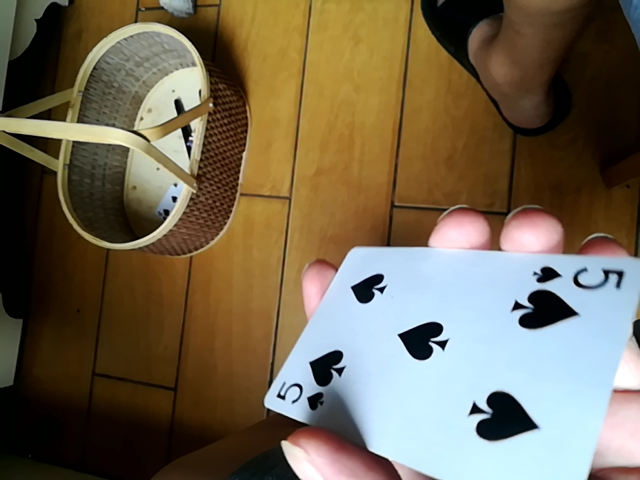ht 5: (260, 240, 633, 478)
